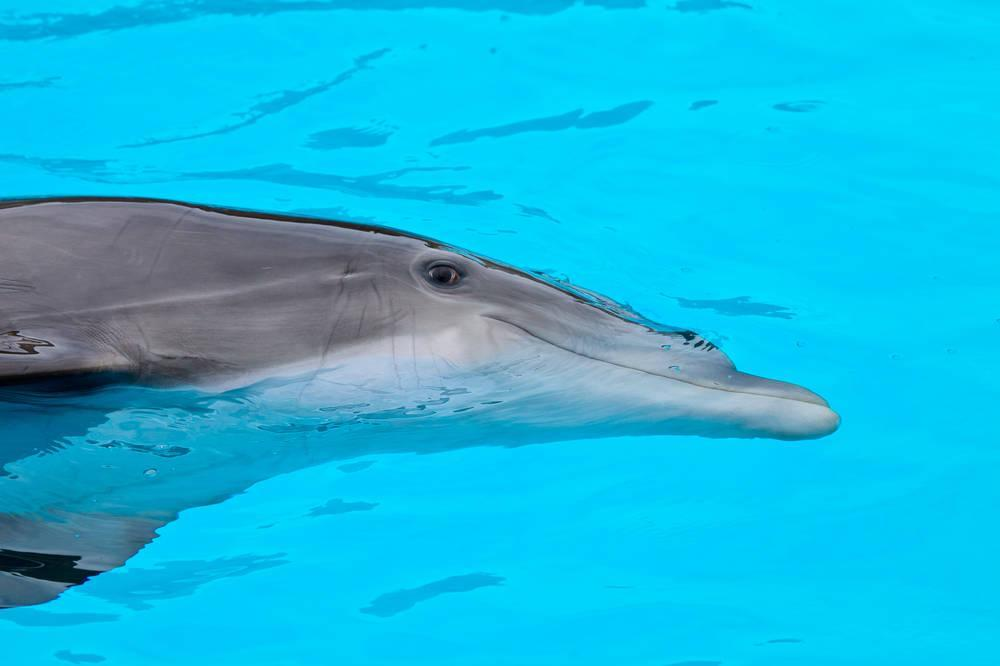fish: (2, 204, 841, 611)
